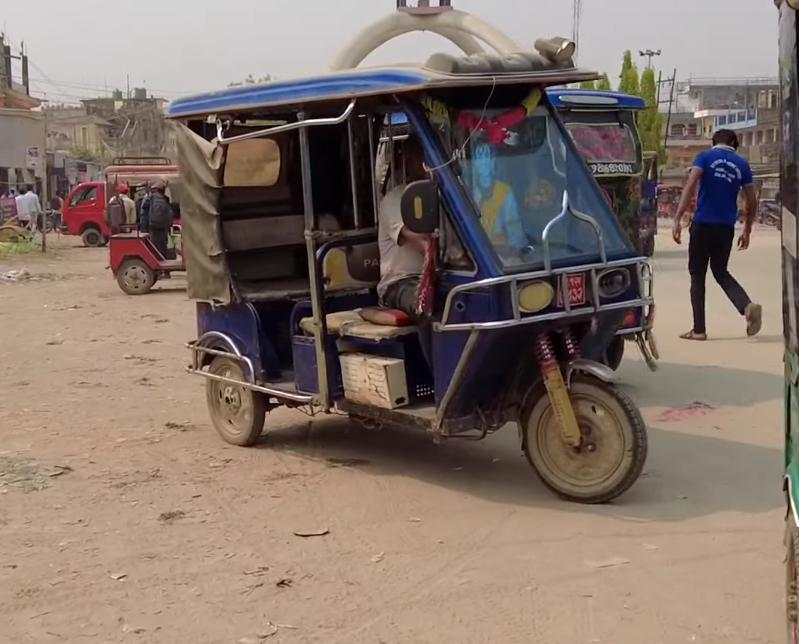e-rickshaw: (156, 50, 670, 515)
